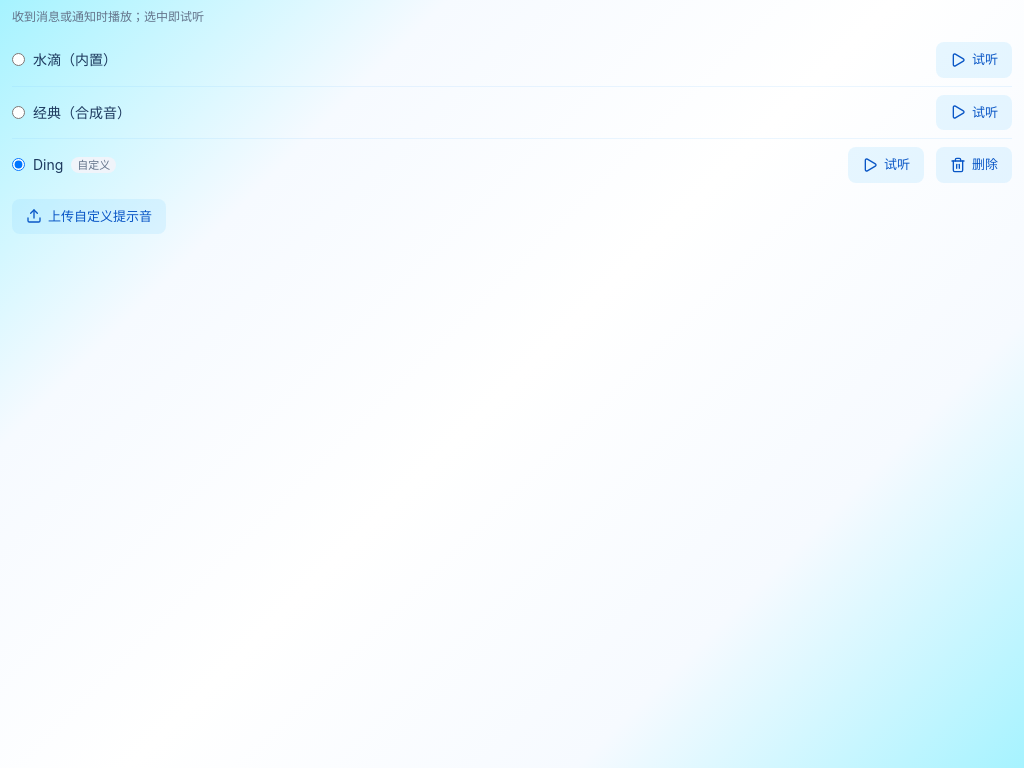
Test: SoundSelector › 删除自定义两步确认；删掉的是选中项时回到 water
Expected: the radio button labelled "Ding" is shown, [12,158,25,171]
Click the button "删除" at coordinates (974, 165), box [936,147,1012,182]
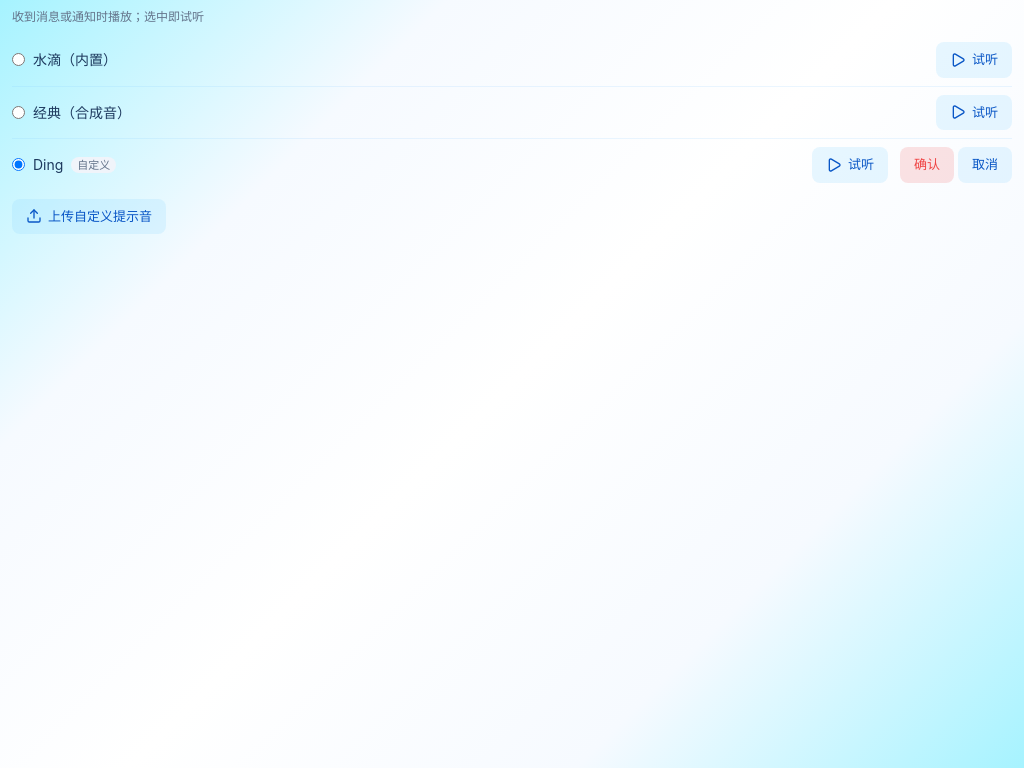
Click the button "确认" at coordinates (927, 165), box [900,147,954,182]
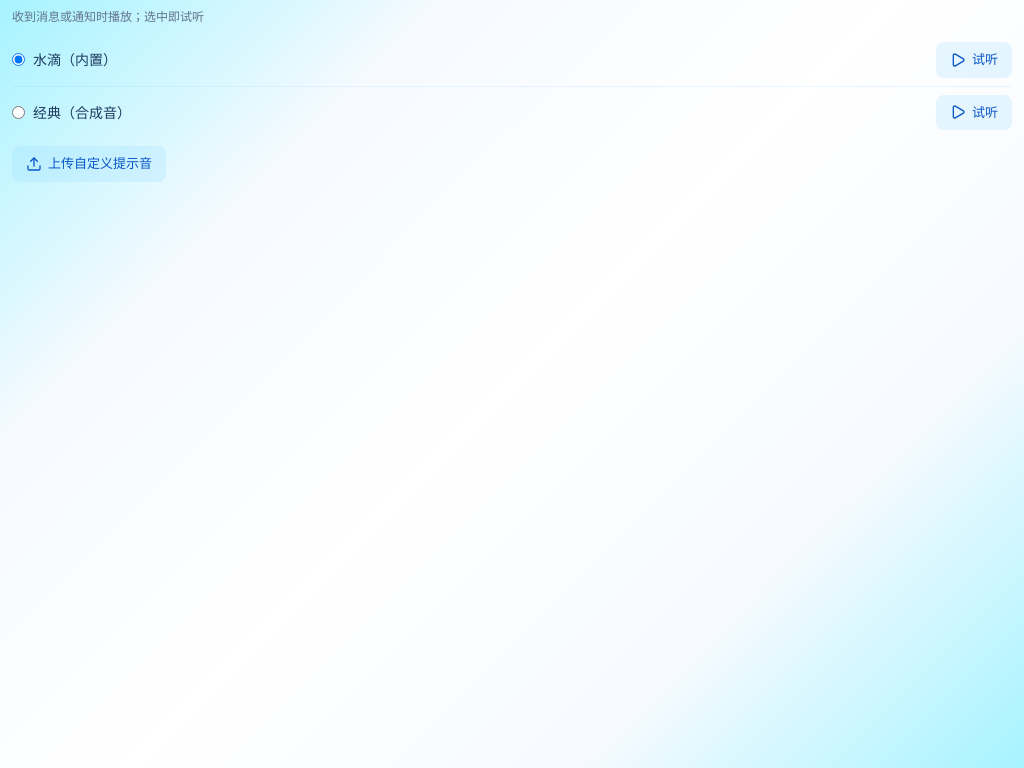
Expected: the text "Ding" is gone
